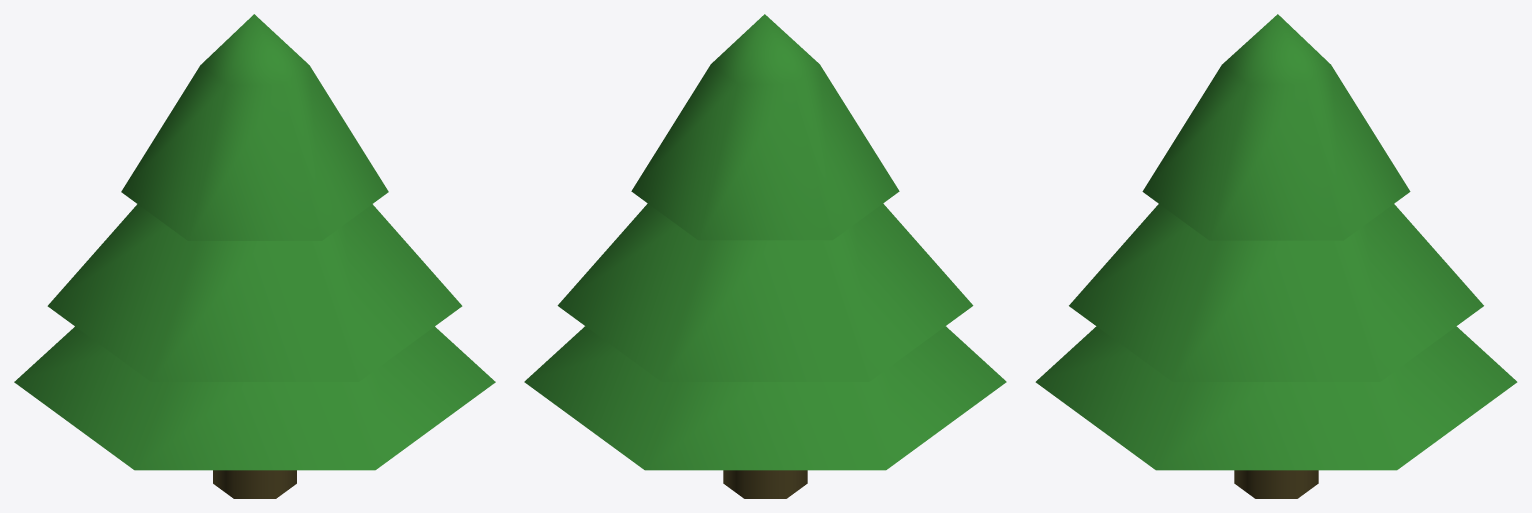
File: tree.fbx
3 views of the same model, side by side, from view 1: azimuth 30°, elevation 25°; view 2: azimuth 150°, elevation 25°; view 3: azimuth 270°, elevation 25° (orthographic).
Visible parts, largest first — view 1: Cylinder; view 2: Cylinder; view 3: Cylinder.
Part boxes in pixels (x1,y1,x2,y2): Cylinder: [14, 14, 495, 498]; Cylinder: [524, 14, 1006, 498]; Cylinder: [1035, 14, 1517, 498].
Size of the model in its own units: 298 by 370 by 344.
